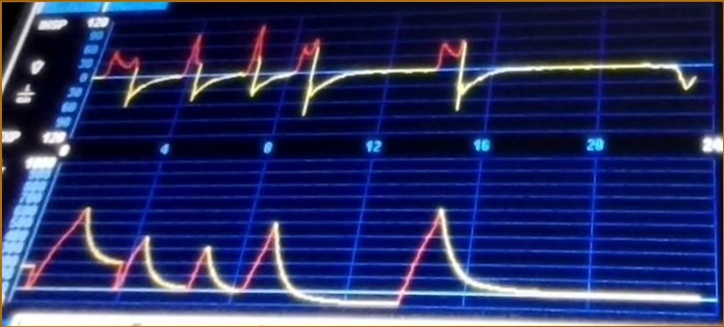Double_Triggering Flow: (102, 26, 540, 118)
Double_Triggering Volume: (46, 203, 537, 306)
